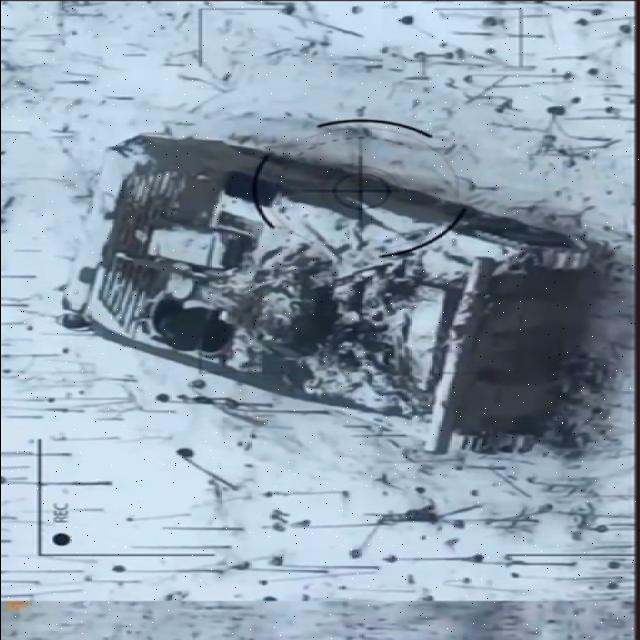APC-IFV: (38, 132, 594, 468)
